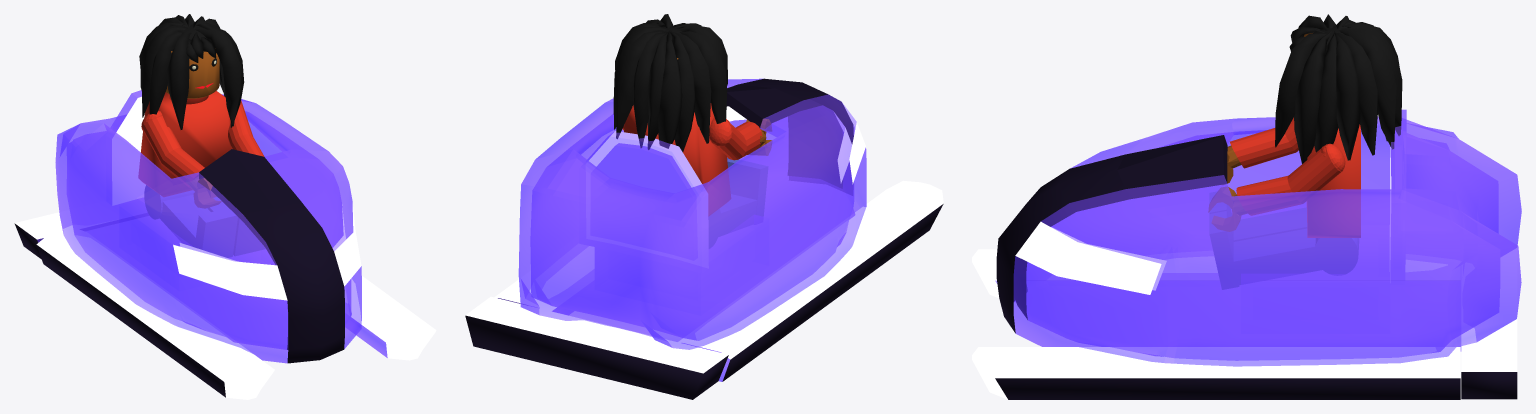
File: pedalinho zul+personagem.fbx
3 renders of one model, left to right at view 1: azimuth 30°, elevation 25°; view 2: azimuth 150°, elevation 25°; view 3: azimuth 270°, elevation 25°, orthographic. The views are drawn at different scales.
Parts seen in each view (by area): view 1: Cubo.001, Nurbs_-_Guia_de_caminho.013, Esfera_UV.004, Cilindro_Cilindro.001, Esfera_UV.001_Esfera_UV.002, Cubo.002_Cubo.002; view 2: Cubo.001, Nurbs_-_Guia_de_caminho.013, Esfera_UV.004; view 3: Cubo.001, Nurbs_-_Guia_de_caminho.013, Esfera_UV.001_Esfera_UV.002, Esfera_UV.004, Cubo.003_Cubo.002.
Boxes of the visible parts, box(x1,y1,x2,y2) form: Cubo.001: box(14, 90, 436, 399); Nurbs_-_Guia_de_caminho.013: box(138, 14, 265, 257); Esfera_UV.004: box(141, 111, 204, 188); Cilindro_Cilindro.001: box(166, 51, 219, 98); Esfera_UV.001_Esfera_UV.002: box(228, 100, 264, 156); Cubo.002_Cubo.002: box(186, 177, 221, 208); Cubo.001: box(465, 78, 943, 399); Nurbs_-_Guia_de_caminho.013: box(613, 14, 767, 248); Esfera_UV.004: box(709, 117, 762, 160); Cubo.001: box(972, 109, 1521, 399); Nurbs_-_Guia_de_caminho.013: box(1209, 14, 1402, 289); Esfera_UV.001_Esfera_UV.002: box(1236, 143, 1345, 215); Esfera_UV.004: box(1230, 117, 1298, 168); Cubo.003_Cubo.002: box(1208, 187, 1246, 231).
Size of the model in its own units: 525 by 598 by 951.
